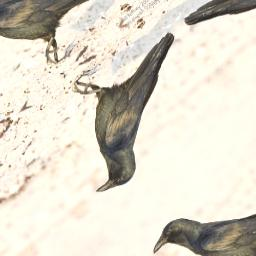Crow: (28, 13, 232, 203)
